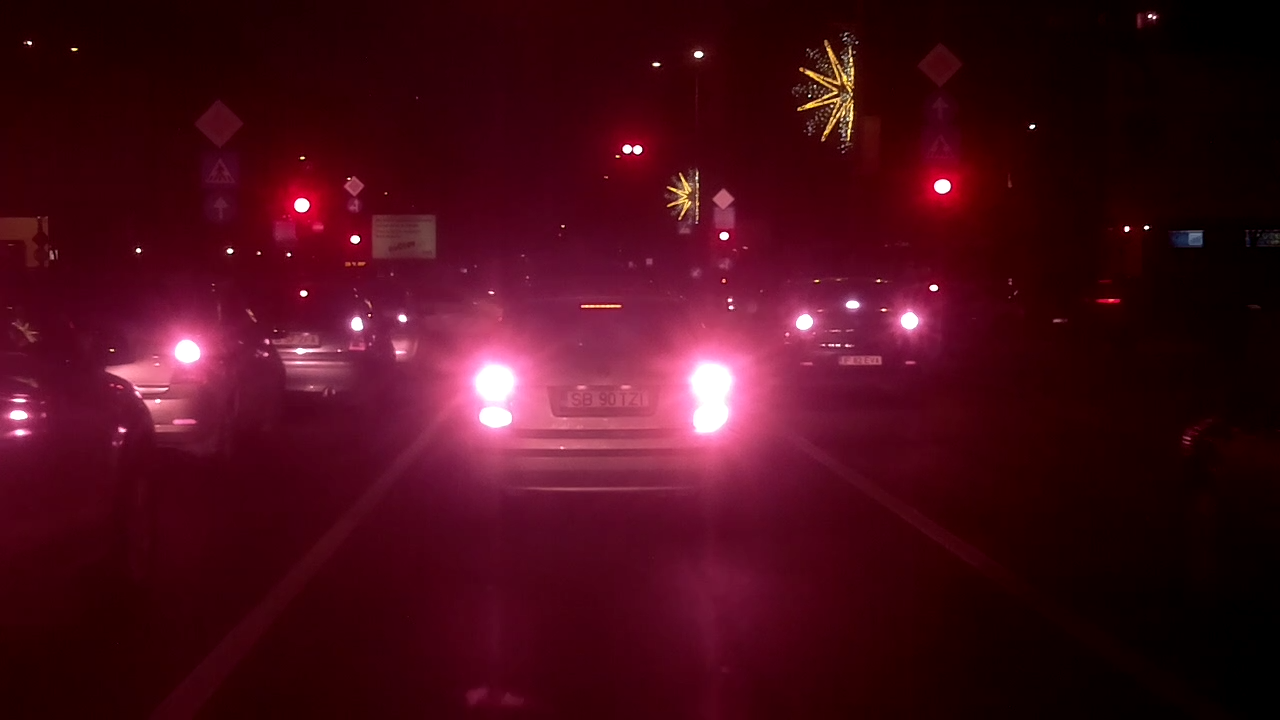license-plate: (552, 385, 653, 413)
